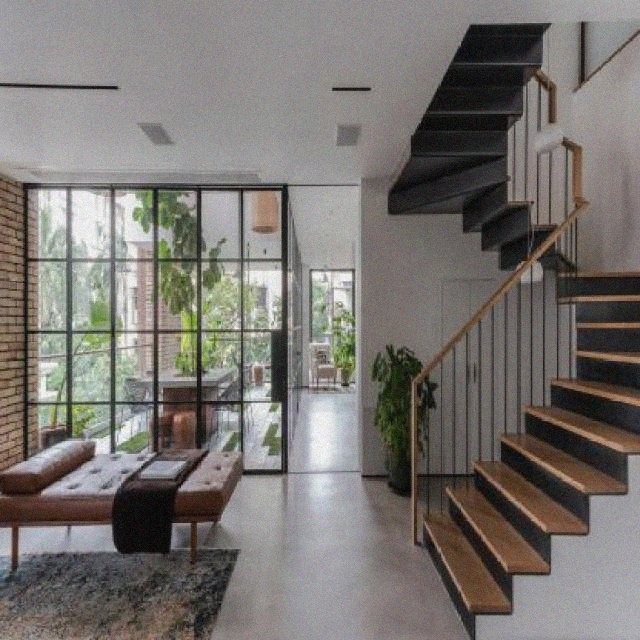stair: (380, 15, 638, 630)
